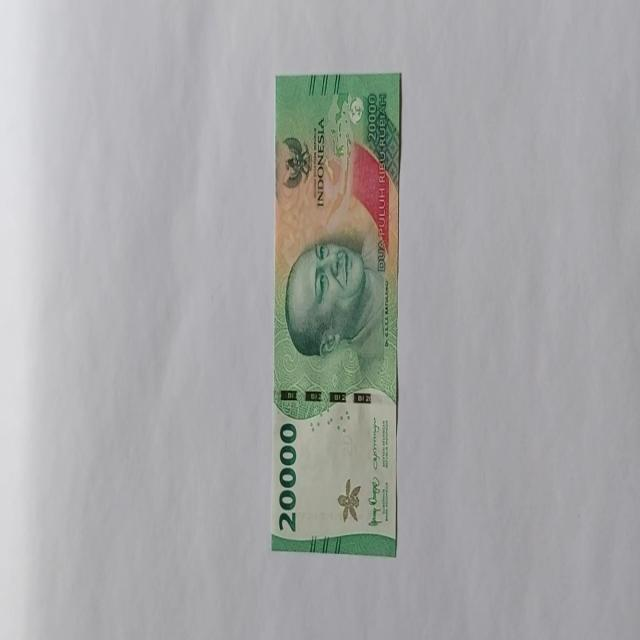dua puluh ribu rupiah: (270, 72, 402, 556), (284, 233, 386, 368)
